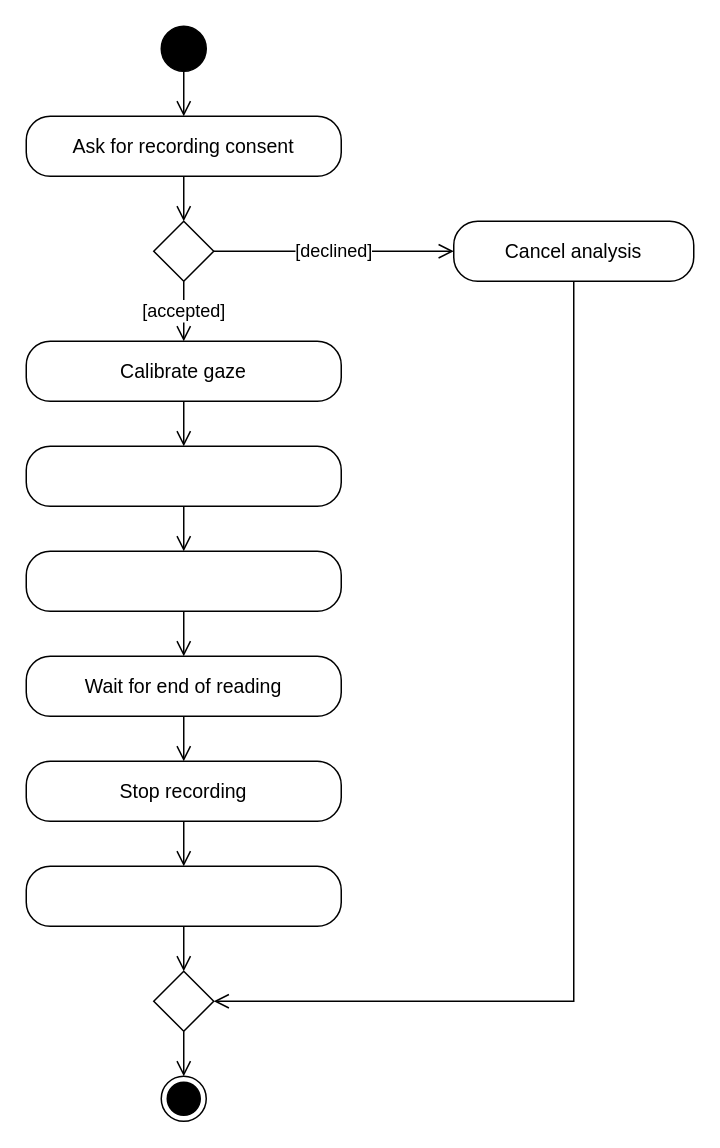
This 720x1148 diagram has some shape labels left out. Each missing label, with the box of its shape:
Show code: (25, 550, 341, 611)
Start recording: (25, 445, 341, 506)
Upload recording: (25, 865, 341, 926)
